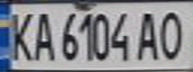0: (90, 9, 112, 62)
1: (75, 9, 93, 62)
4: (109, 8, 136, 62)
6: (54, 8, 78, 62)
A: (133, 7, 163, 61), (30, 7, 57, 62)
K: (3, 7, 36, 63)
O: (154, 7, 190, 61)
